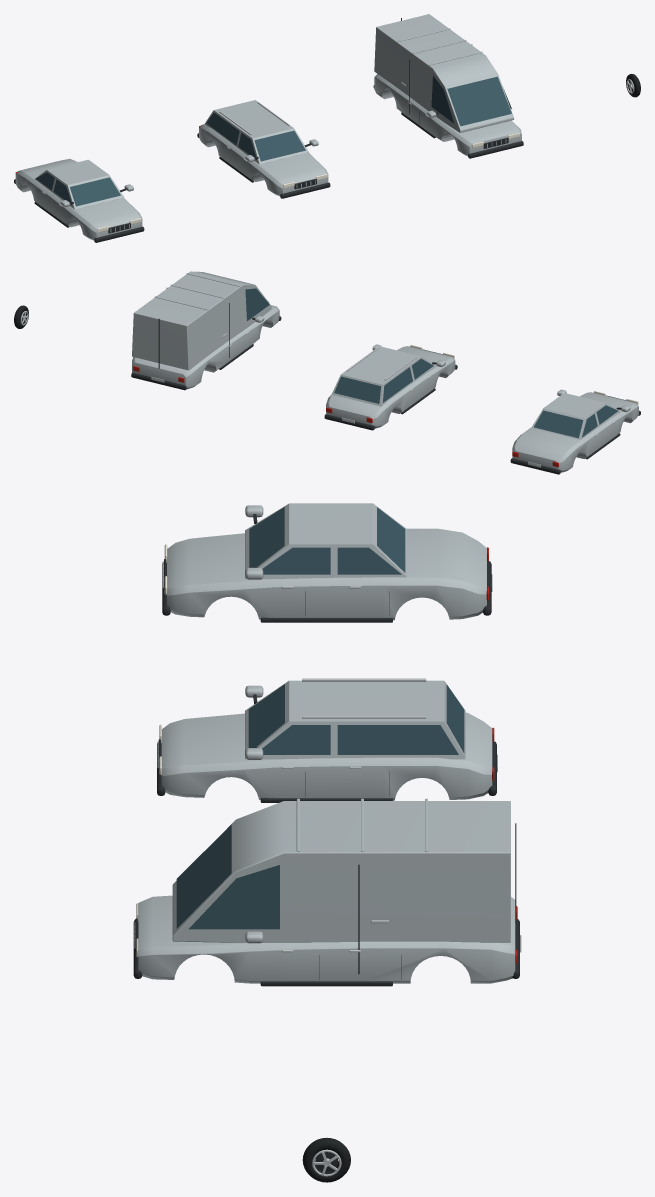
File: vehicles.glb
3 renders of one model, top to bottom at view 1: azimuth 30°, elevation 25°; view 2: azimuth 150°, elevation 25°; view 3: azimuth 270°, elevation 25°, orthographic. The views are drawn at different scales.
Parts seen in each view (by area): view 1: paint_assembly.002, paint_assembly.001, paint_assembly, glass_assembly.002, glass_assembly.001, glass_assembly, dark_assembly.002, dark_assembly, dark_assembly.001; view 2: paint_assembly.002, paint_assembly.001, paint_assembly, glass_assembly.001, glass_assembly, dark_assembly.002, glass_assembly.002, dark_assembly.001, dark_assembly; view 3: paint_assembly.002, paint_assembly.001, paint_assembly, glass_assembly.001, glass_assembly.002, glass_assembly, dark_assembly.002, dark_assembly, tire_assembly, dark_assembly.001, chrome_assembly.001.
Part boxes in pixels (x1=…): paint_assembly.002: x1=374, y1=14, x2=521, y2=156; paint_assembly.001: x1=199, y1=100, x2=328, y2=196; paint_assembly: x1=15, y1=158, x2=142, y2=240; glass_assembly.002: x1=431, y1=75, x2=511, y2=126; glass_assembly.001: x1=206, y1=112, x2=305, y2=161; glass_assembly: x1=36, y1=172, x2=120, y2=206; dark_assembly.002: x1=373, y1=18, x2=523, y2=158; dark_assembly: x1=14, y1=179, x2=144, y2=242; dark_assembly.001: x1=197, y1=133, x2=330, y2=198; paint_assembly.002: x1=132, y1=271, x2=279, y2=389; paint_assembly.001: x1=326, y1=344, x2=455, y2=428; paint_assembly: x1=512, y1=389, x2=638, y2=472; glass_assembly.001: x1=334, y1=358, x2=433, y2=403; glass_assembly: x1=534, y1=405, x2=618, y2=438; dark_assembly.002: x1=131, y1=288, x2=281, y2=390; glass_assembly.002: x1=245, y1=288, x2=269, y2=320; dark_assembly.001: x1=324, y1=349, x2=457, y2=430; dark_assembly: x1=510, y1=395, x2=640, y2=474; paint_assembly.002: x1=138, y1=798, x2=515, y2=983; paint_assembly.001: x1=161, y1=680, x2=492, y2=800; paint_assembly: x1=167, y1=503, x2=486, y2=620; glass_assembly.001: x1=248, y1=684, x2=464, y2=754; glass_assembly.002: x1=176, y1=824, x2=279, y2=929; glass_assembly: x1=249, y1=507, x2=405, y2=574; dark_assembly.002: x1=133, y1=823, x2=519, y2=986; dark_assembly: x1=162, y1=514, x2=491, y2=622; tire_assembly: x1=302, y1=1137, x2=350, y2=1182; dark_assembly.001: x1=157, y1=694, x2=496, y2=802; chrome_assembly.001: x1=157, y1=678, x2=497, y2=772.
Bounding box in the file's own units: 19.26 × 2.76 × 5.45.
